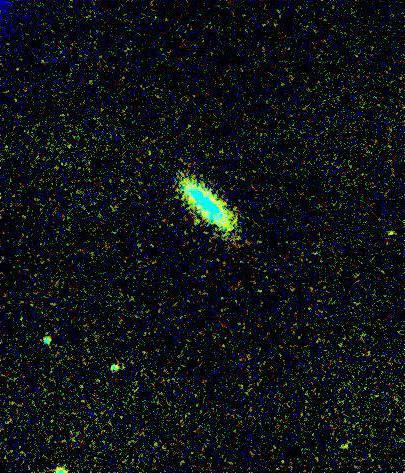star: (185, 201, 215, 231)
